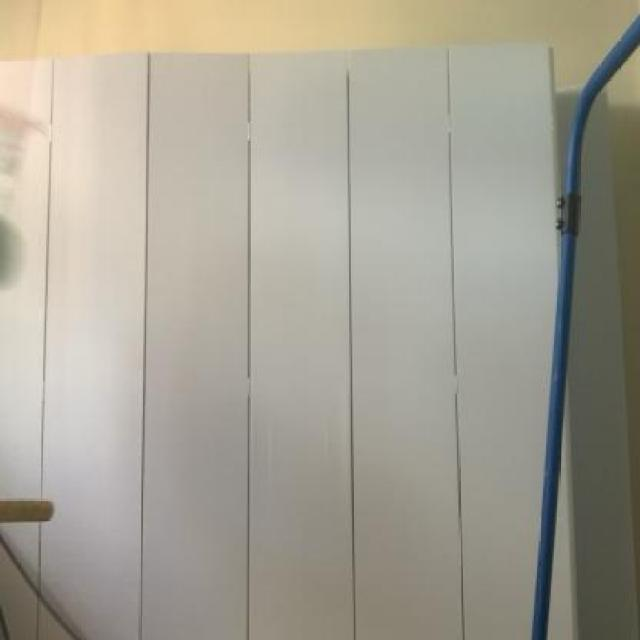baseball: (0, 204, 37, 291)
